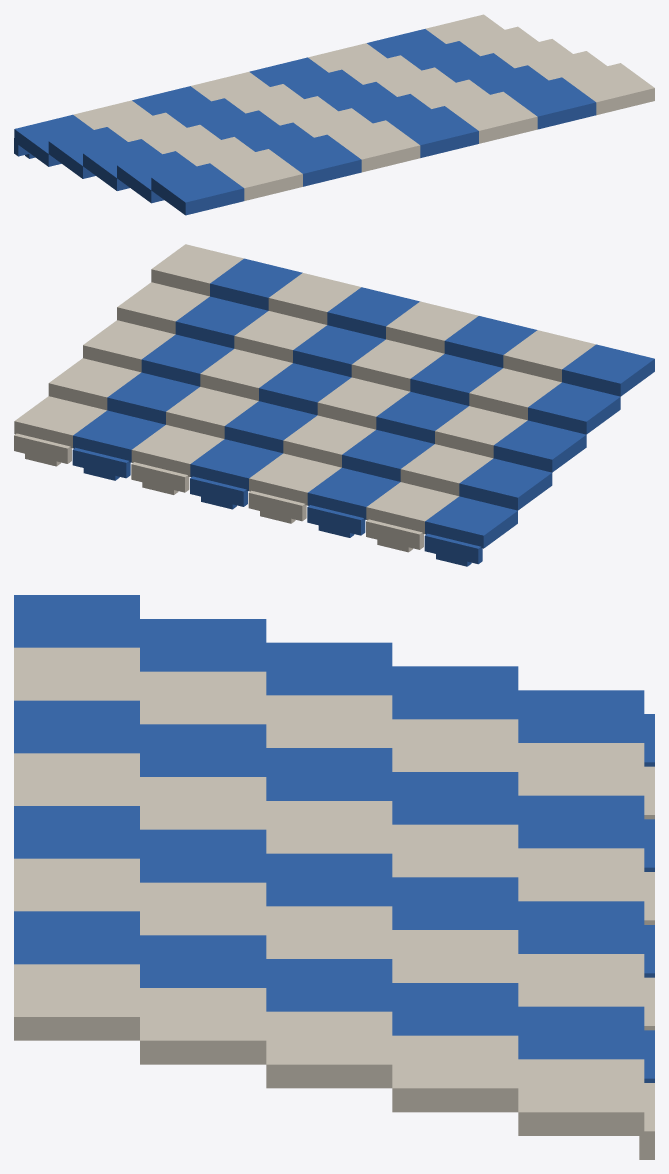
File: cp-awning-blue.glb
3 views of the same model, one above another, from view 1: azimuth 30°, elevation 25°; view 2: azimuth 150°, elevation 25°; view 3: azimuth 270°, elevation 25° (orthographic). The views are drawn at different scales.
Parts seen in each view (by area): view 1: box-prop; view 2: box-prop; view 3: box-prop.
Part boxes in pixels (<box>): box-prop: <box>14,14,654,215</box>; box-prop: <box>14,244,654,566</box>; box-prop: <box>14,595,654,1159</box>.
Bounding box in the file's own units: 7.6 × 1.3 × 4.88.
